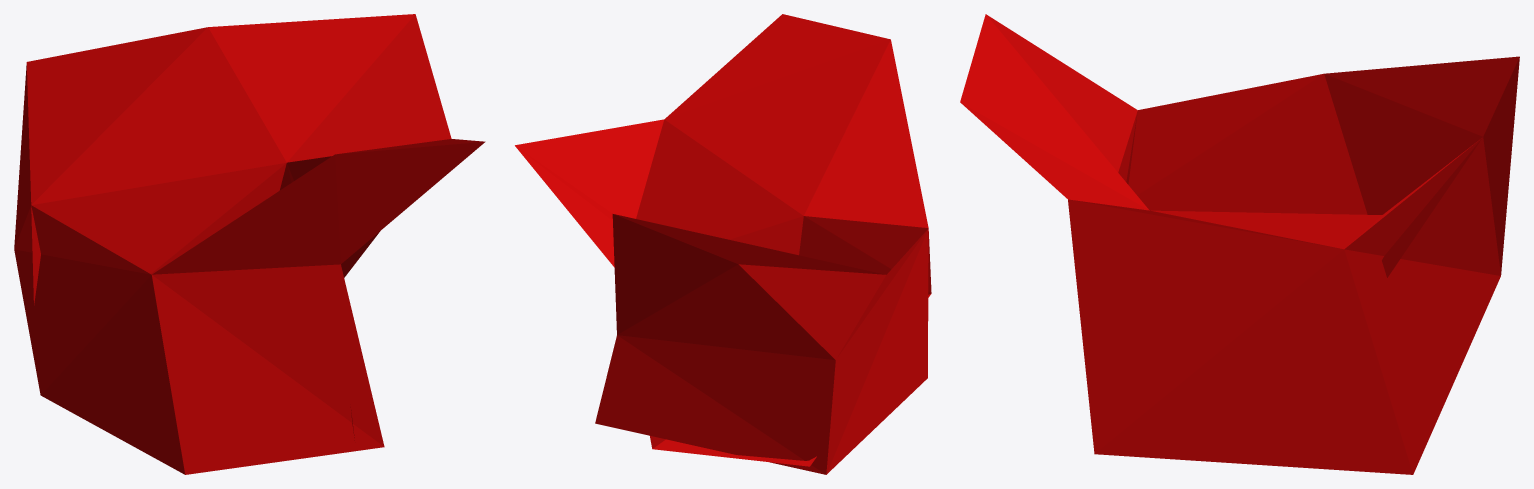
The picture shows the model from 3 angles, left to right: view 1: azimuth 30°, elevation 25°; view 2: azimuth 150°, elevation 25°; view 3: azimuth 270°, elevation 25°; orthographic projection. The views are drawn at different scales.
Parts seen in each view (by area): view 1: Mesh; view 2: Mesh; view 3: Mesh.
Part boxes in pixels (box(x1,y1,x2,y2)): Mesh: box(14, 14, 485, 474); Mesh: box(515, 14, 931, 474); Mesh: box(960, 14, 1519, 474).
Size of the model in its own units: 1.06 by 0.9042 by 1.15.
